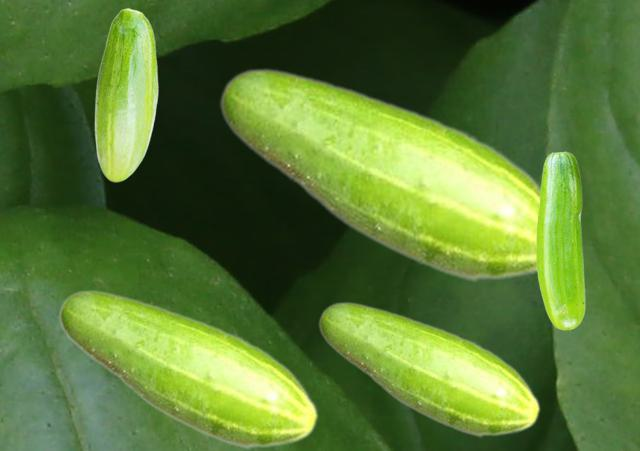cucumber: (219, 67, 539, 282), (58, 289, 318, 449), (318, 301, 540, 437), (94, 8, 157, 181), (536, 151, 584, 329)
